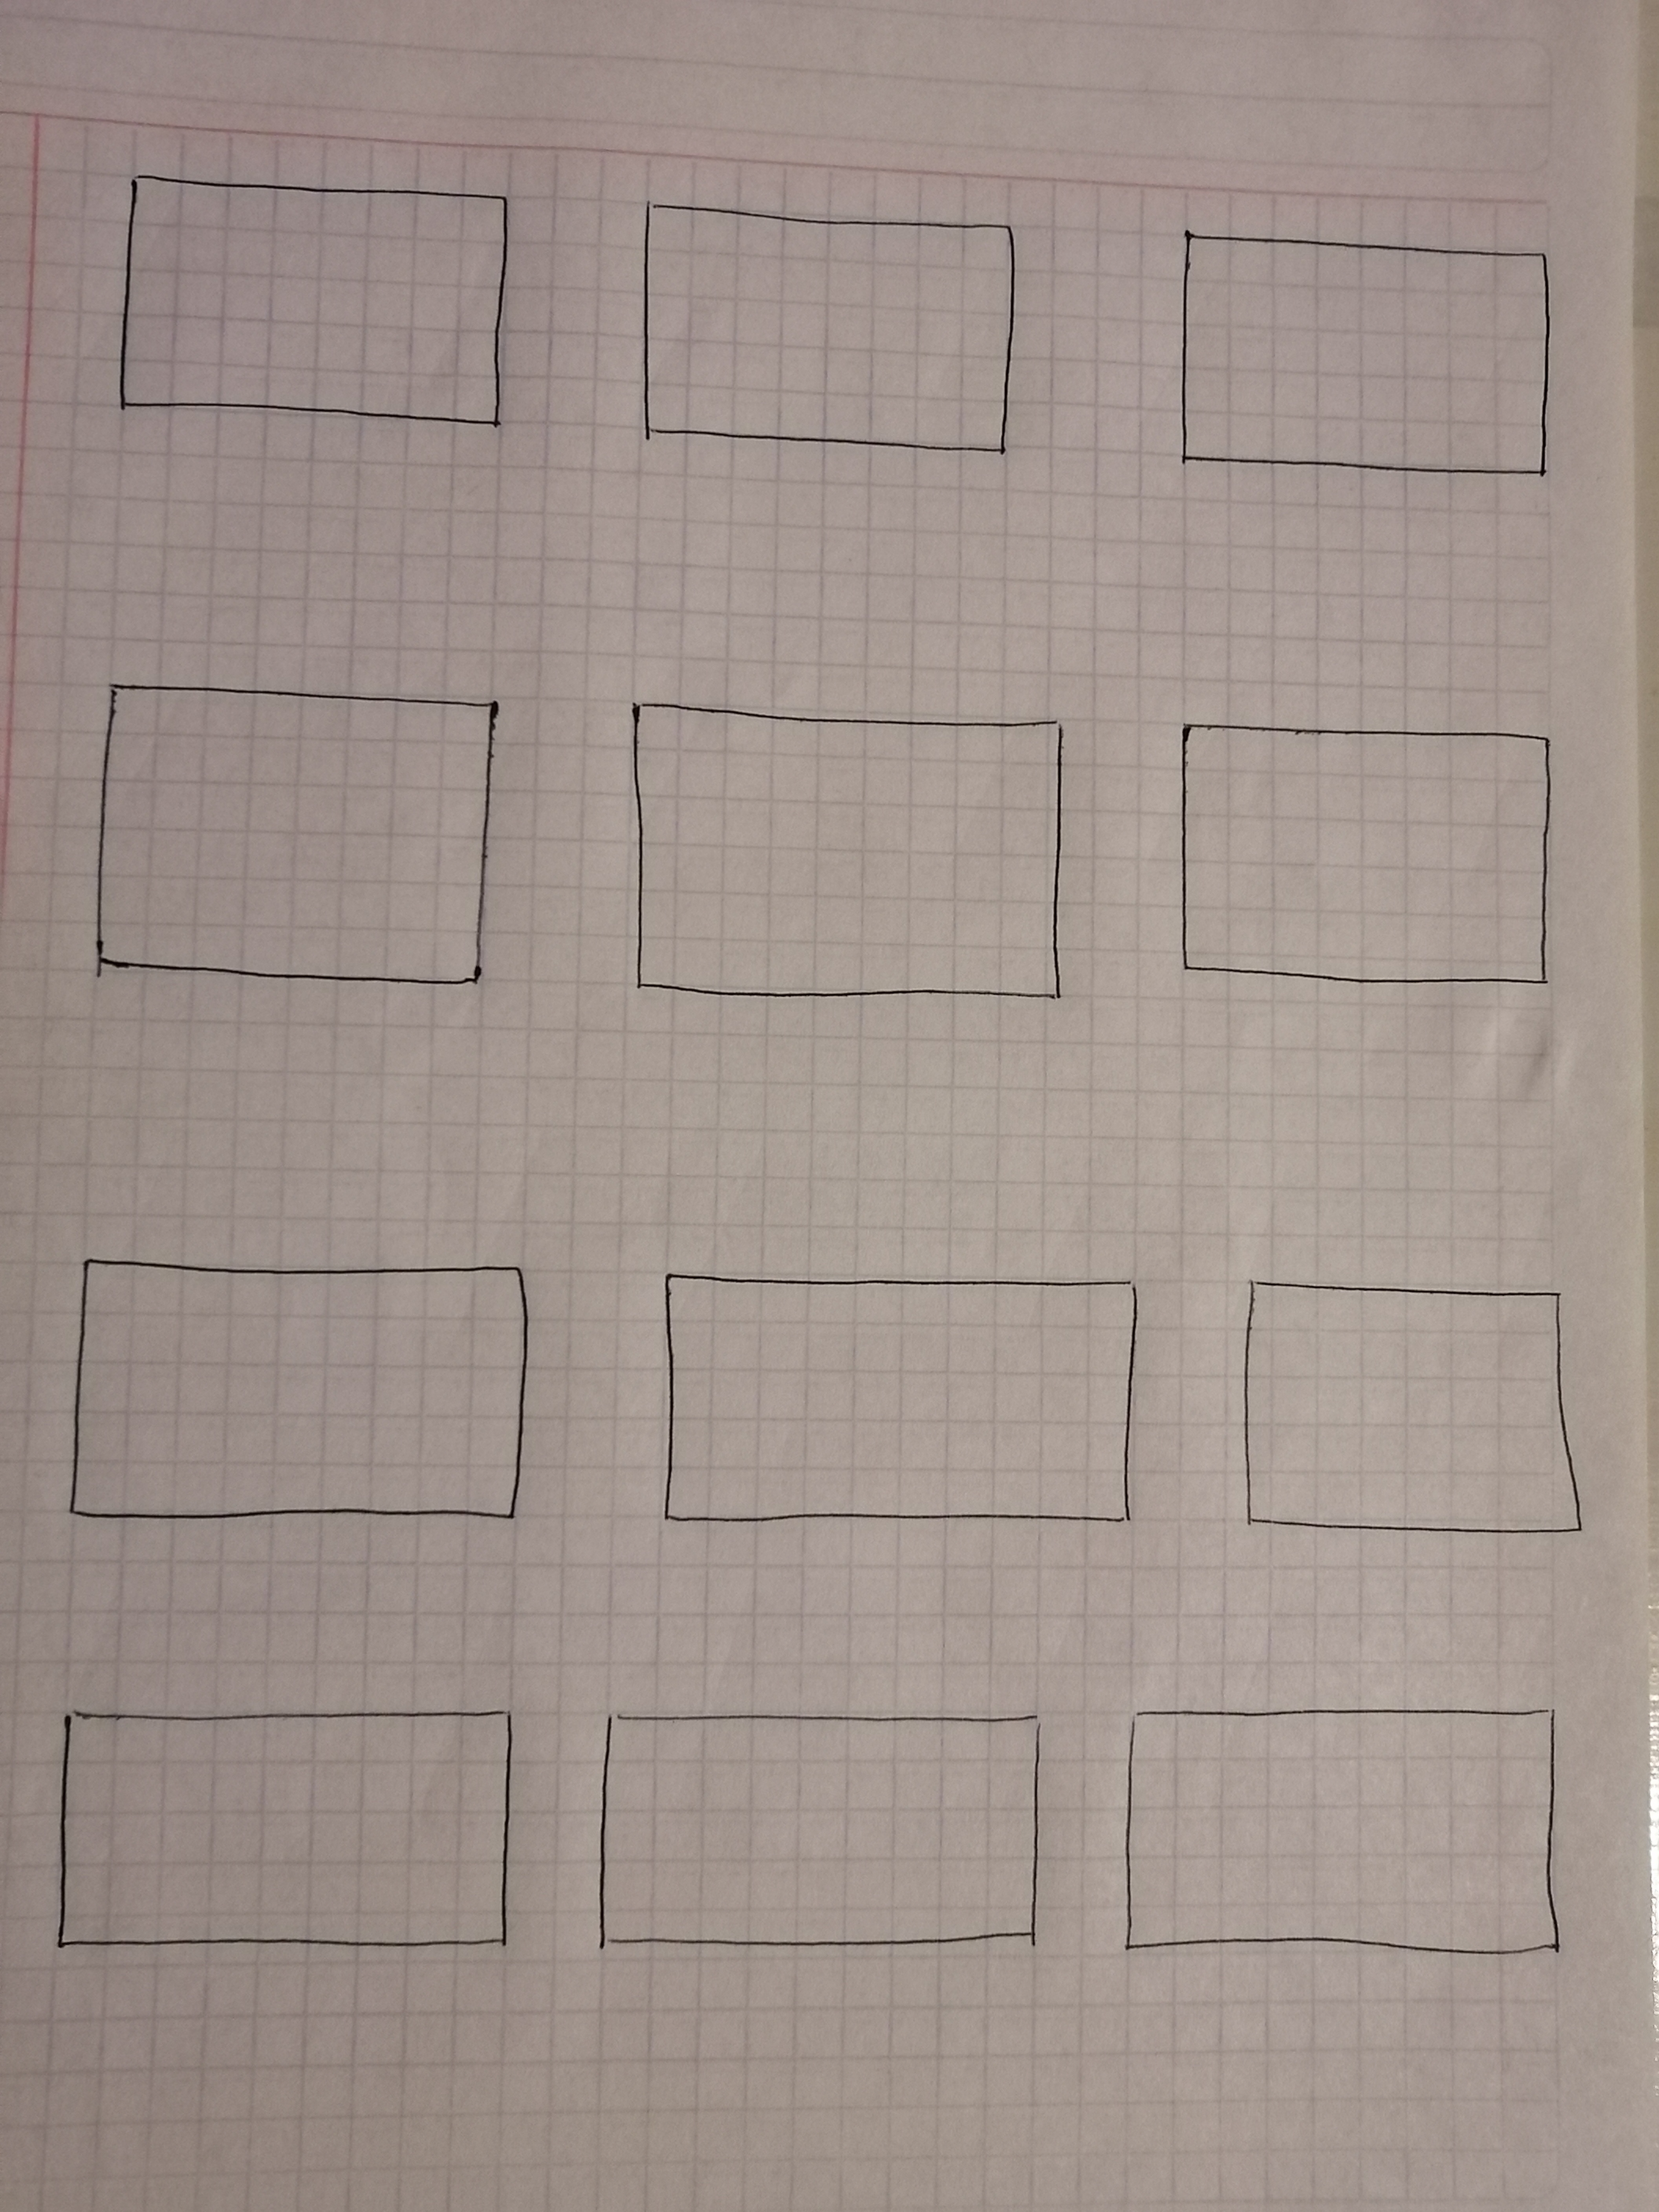process: (45, 1195, 566, 1566), (589, 657, 1096, 1031), (59, 624, 532, 1024), (617, 1228, 1178, 1559), (1141, 678, 1600, 1045), (42, 1667, 552, 1977), (78, 131, 538, 470), (596, 157, 1053, 491), (1107, 1677, 1595, 1987), (1138, 174, 1577, 517), (575, 1684, 1077, 1973), (1206, 1238, 1621, 1585)
